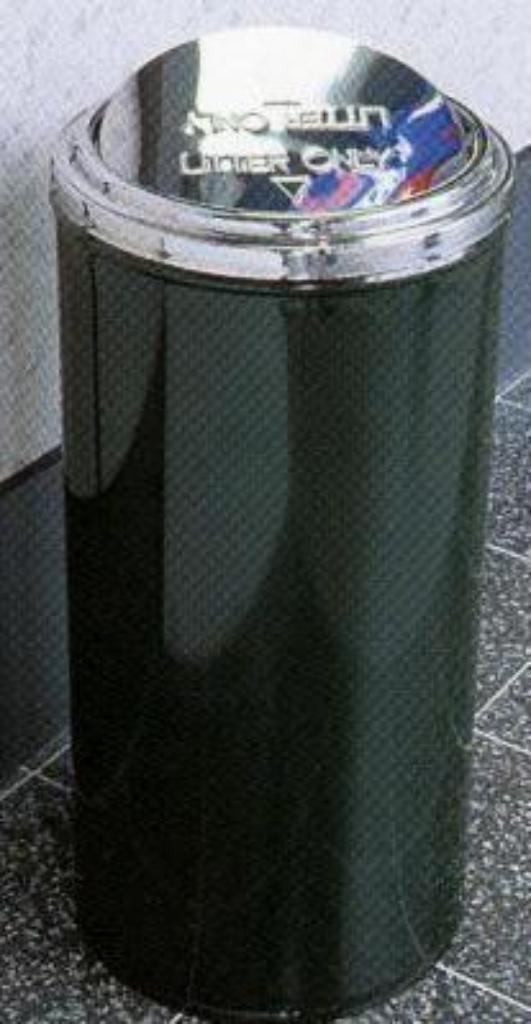dustbin: (35, 19, 513, 996)
